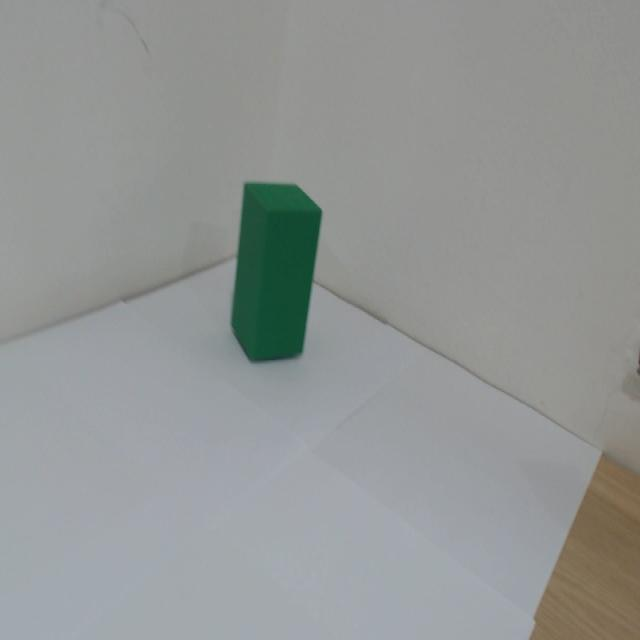cube: (213, 149, 376, 429)
